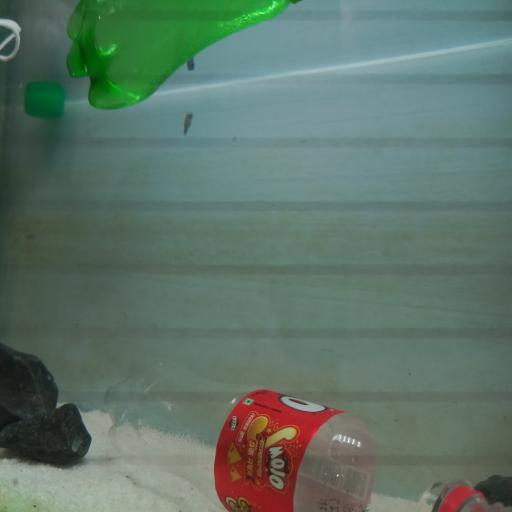bottle_cap: (26, 95, 65, 117)
plastic_bottle: (101, 363, 512, 512), (66, 0, 304, 112)
